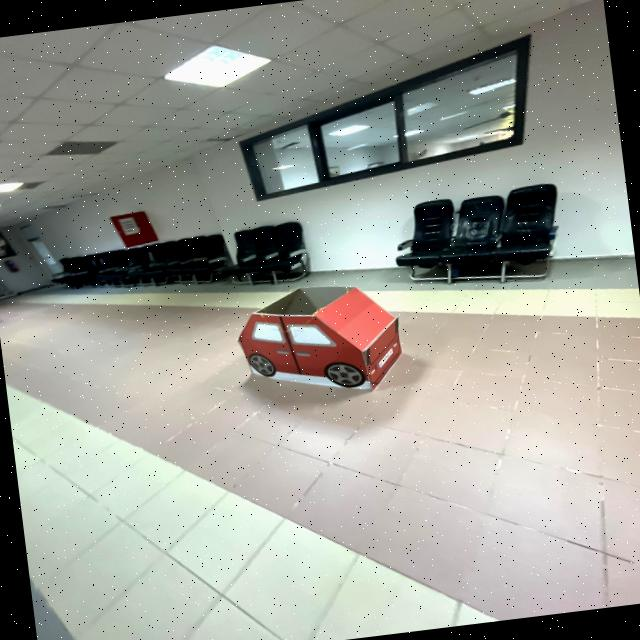red_car: (213, 266, 424, 424)
